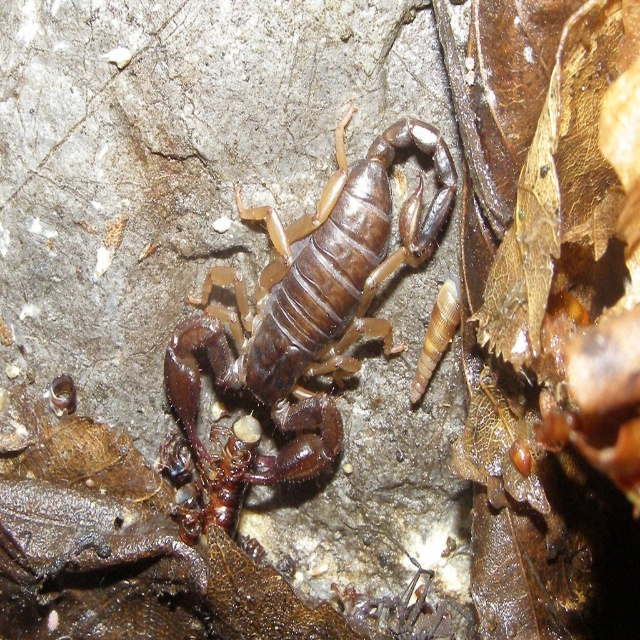Scorpion: (163, 104, 457, 543)
